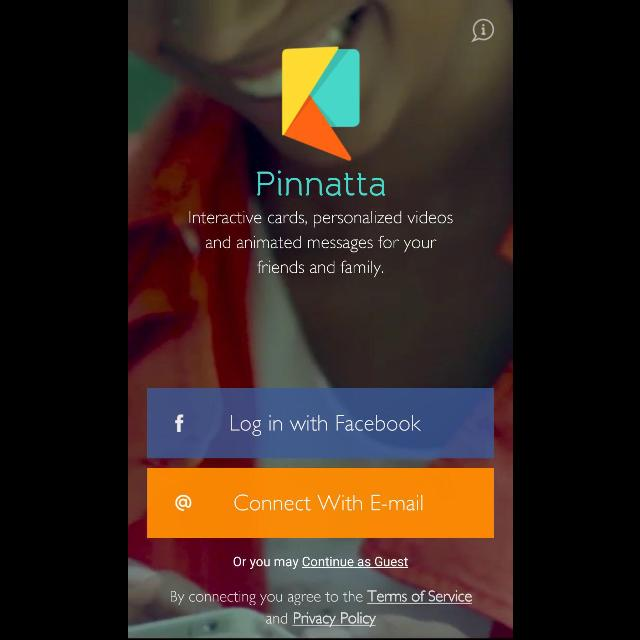backgroundimage: (128, 1, 512, 640)
icon: (471, 19, 494, 43)
image: (281, 46, 359, 162)
text: (188, 210, 452, 278), (170, 590, 472, 628), (256, 171, 384, 197), (232, 556, 408, 570)
textbutton: (146, 468, 494, 538), (147, 388, 493, 458)
